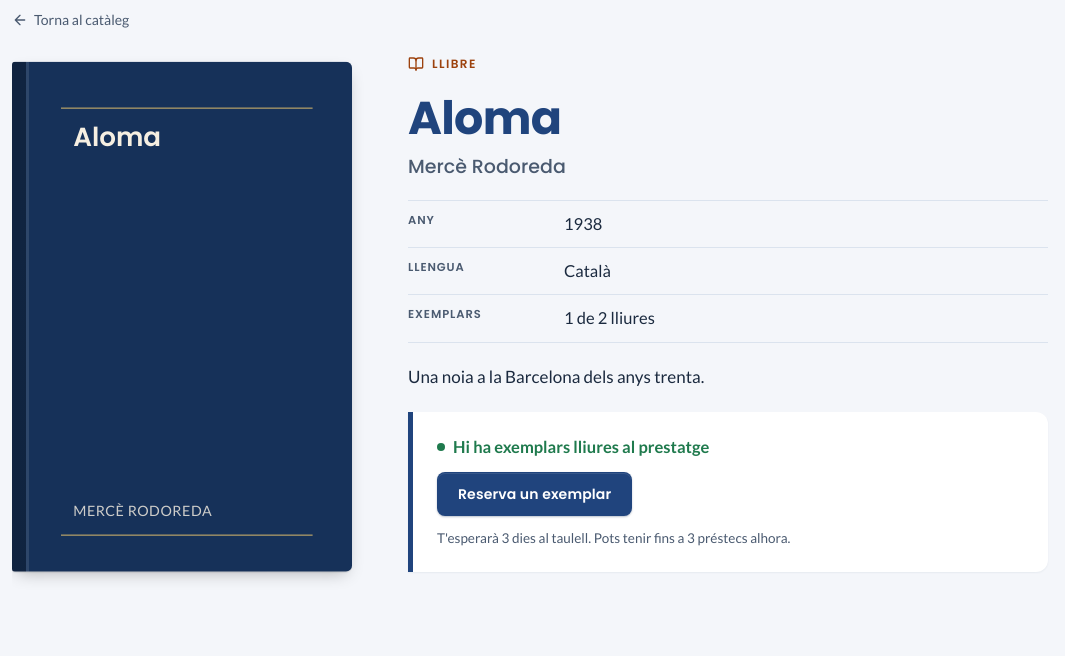
Test: ItemPage › the reason of a refused reservation shows
Click the button "Reserva un exemplar" at (535, 494), box x1=437 y1=472 x2=632 y2=516
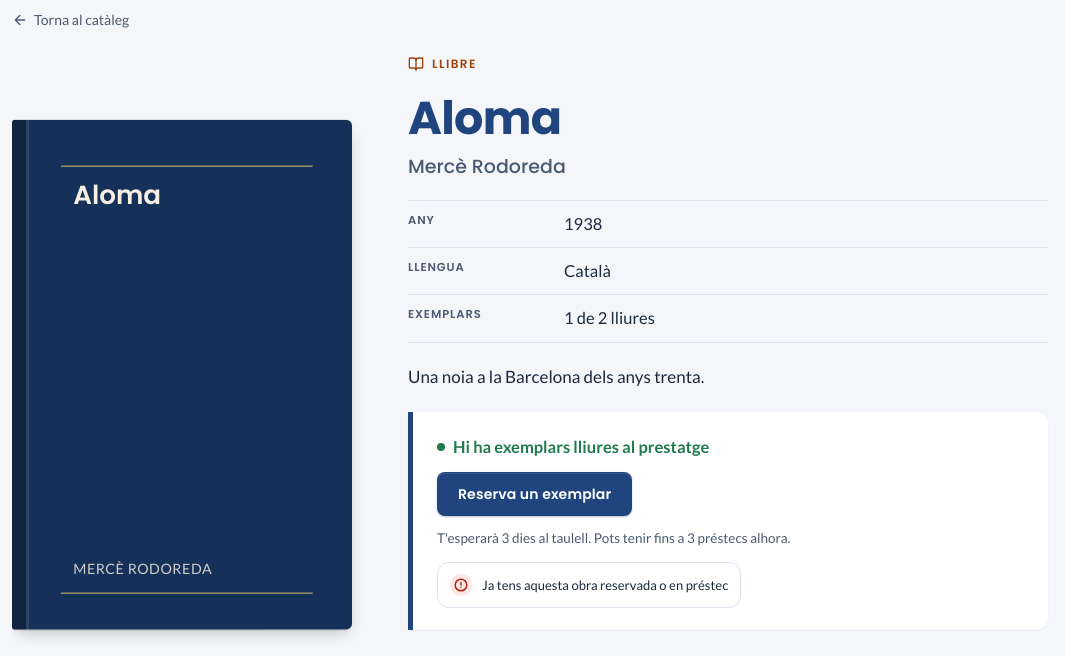
Result: the text "Ja tens aquesta obra reservada o en préstec" is shown at x1=482 y1=576 x2=728 y2=595
